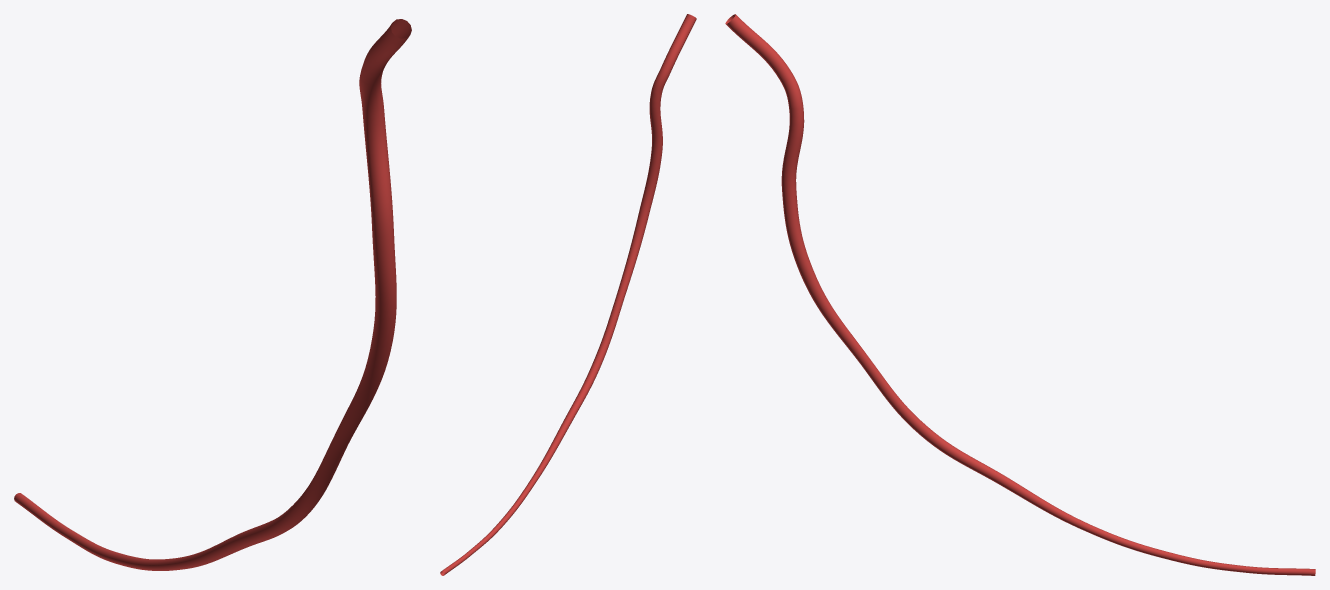
3 views of the same model, side by side, from view 1: azimuth 30°, elevation 25°; view 2: azimuth 150°, elevation 25°; view 3: azimuth 270°, elevation 25° (orthographic). The views are drawn at different scales.
Parts seen in each view (by area): view 1: 右侧阴茎深动脉; view 2: 右侧阴茎深动脉; view 3: 右侧阴茎深动脉.
Part boxes in pixels (left/top/right/bottom): 右侧阴茎深动脉: left=14, top=19, right=411, bottom=570; 右侧阴茎深动脉: left=440, top=14, right=696, bottom=575; 右侧阴茎深动脉: left=725, top=14, right=1315, bottom=575.
Bounding box in the file's own units: 0.0074 × 0.0802 × 0.0791.
